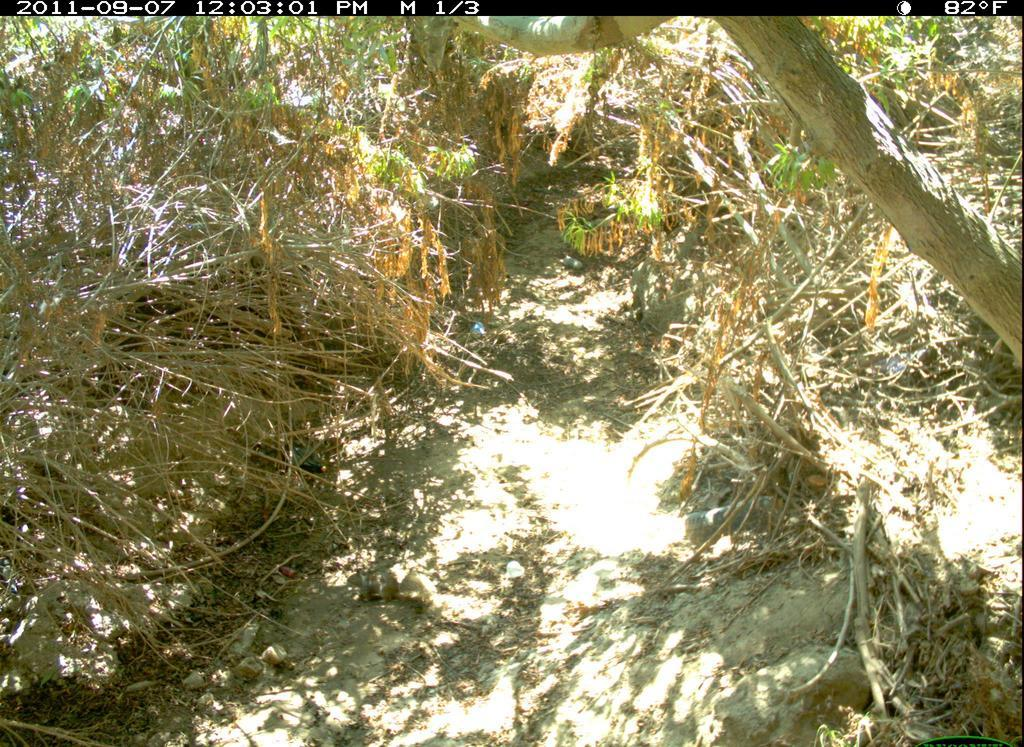squirrel: (344, 563, 442, 610)
